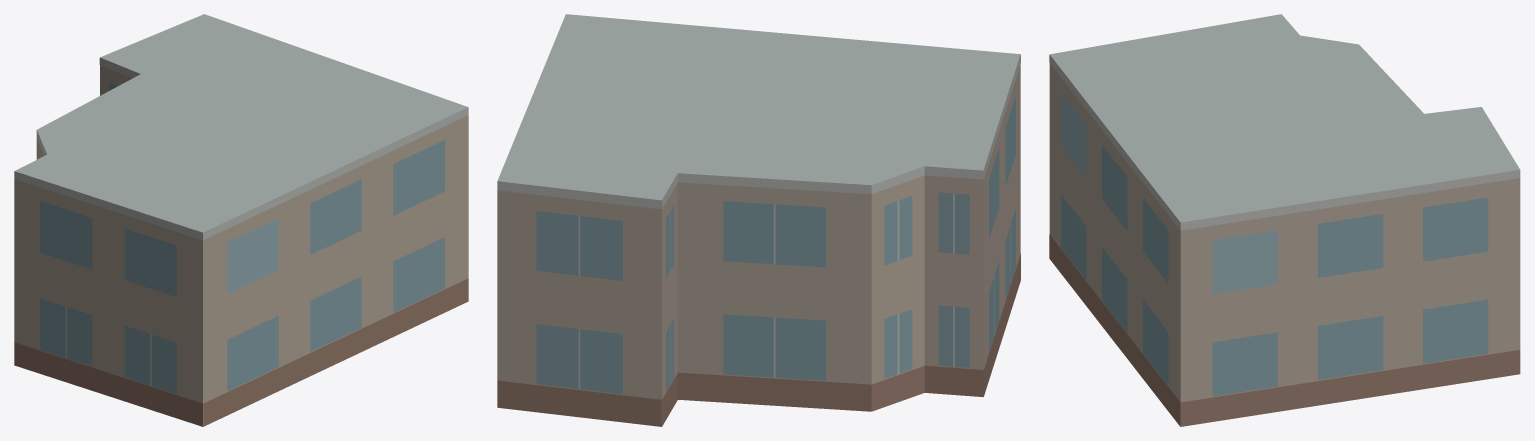
The model's file is survey-upis-32825756.glb.
3 renders of one model, left to right at view 1: azimuth 30°, elevation 25°; view 2: azimuth 150°, elevation 25°; view 3: azimuth 270°, elevation 25°, orthographic. The views are drawn at different scales.
Visible parts, largest first — view 1: survey-upis-32825756.tmp; view 2: survey-upis-32825756.tmp; view 3: survey-upis-32825756.tmp.
Part boxes in pixels (x1,y1,x2,y2): survey-upis-32825756.tmp: (14,14,468,426); survey-upis-32825756.tmp: (497,14,1020,426); survey-upis-32825756.tmp: (1049,14,1520,426).
Size of the model in its own units: 13.37 by 6.1 by 12.75.
